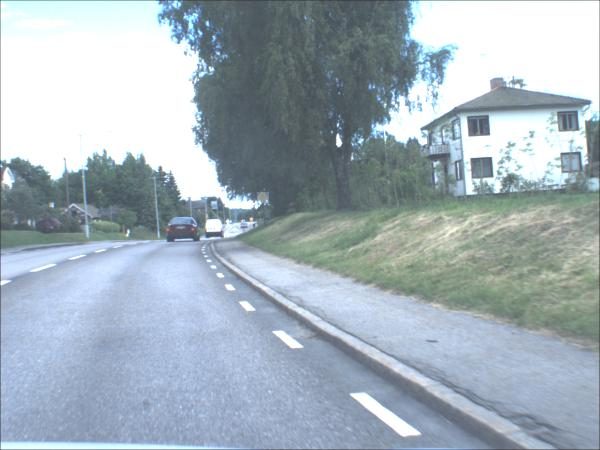PRIORITY_ROAD: (258, 193, 271, 205)
